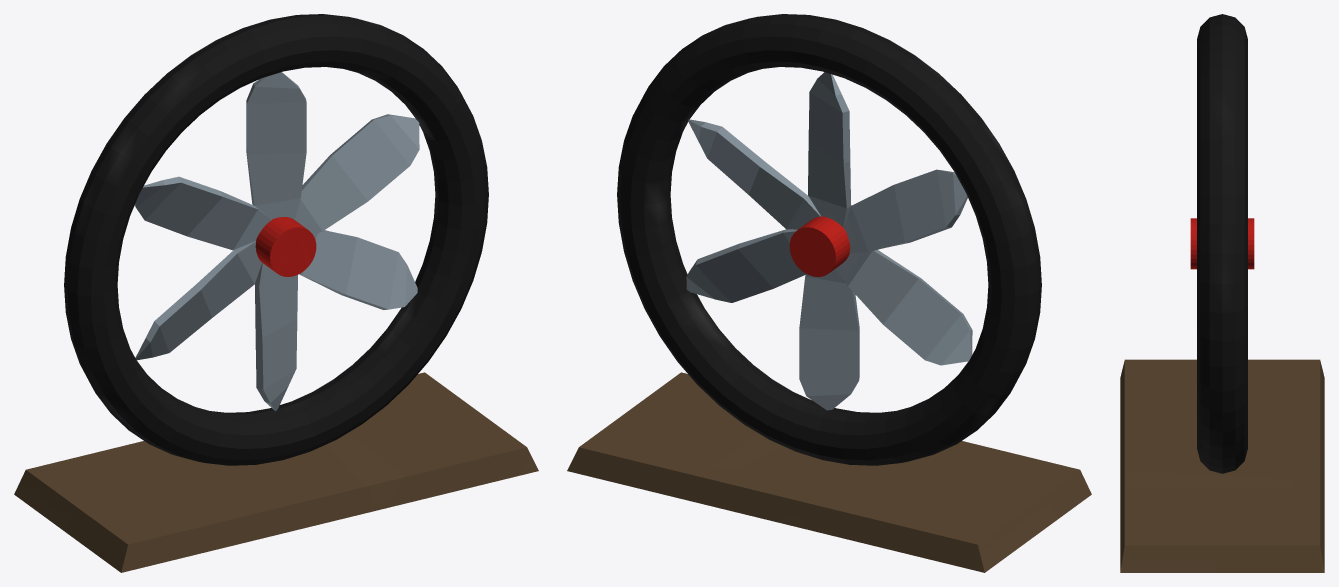
The model's file is Generator_Hierarchy.fbx.
The picture shows the model from 3 angles, left to right: view 1: azimuth 30°, elevation 25°; view 2: azimuth 150°, elevation 25°; view 3: azimuth 270°, elevation 25°; orthographic projection. The views are drawn at different scales.
Visible parts, largest first — view 1: Generator, RotatingPale; view 2: Generator, RotatingPale; view 3: Generator, RotatingPale.
Part boxes in pixels (left/top/right/bottom): Generator: left=14, top=14, right=538, bottom=572; RotatingPale: left=134, top=72, right=419, bottom=410; Generator: left=567, top=14, right=1091, bottom=572; RotatingPale: left=686, top=72, right=972, bottom=410; Generator: left=1120, top=14, right=1324, bottom=572; RotatingPale: left=1190, top=218, right=1254, bottom=269.
Bounding box in the file's own units: 1.8 × 1.9 × 0.8.
